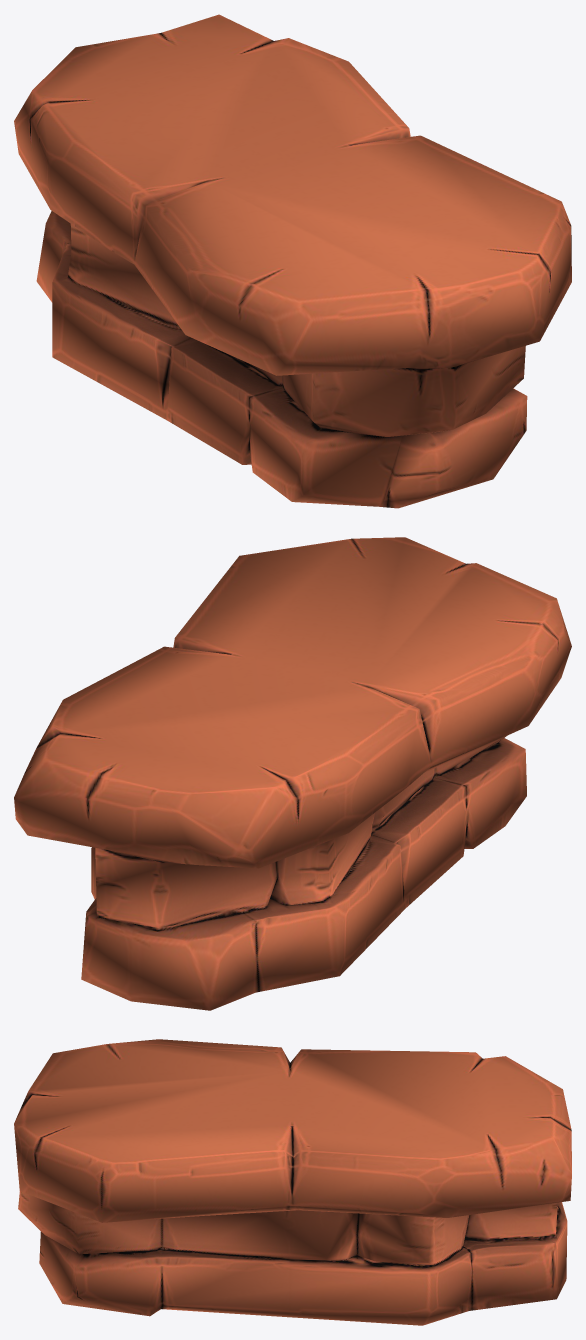
File: rock_2.fbx
3 views of the same model, one above another, from view 1: azimuth 30°, elevation 25°; view 2: azimuth 150°, elevation 25°; view 3: azimuth 270°, elevation 25° (orthographic). The views are drawn at different scales.
Visible parts, largest first — view 1: Low_2; view 2: Low_2; view 3: Low_2.
Part boxes in pixels (box(x1,y1,x2,y2)): Low_2: box(14, 14, 571, 508); Low_2: box(14, 537, 571, 1010); Low_2: box(14, 1039, 571, 1325).
Bounding box in the file's own units: 183 × 118 × 327.
1 material, 1 textured.
